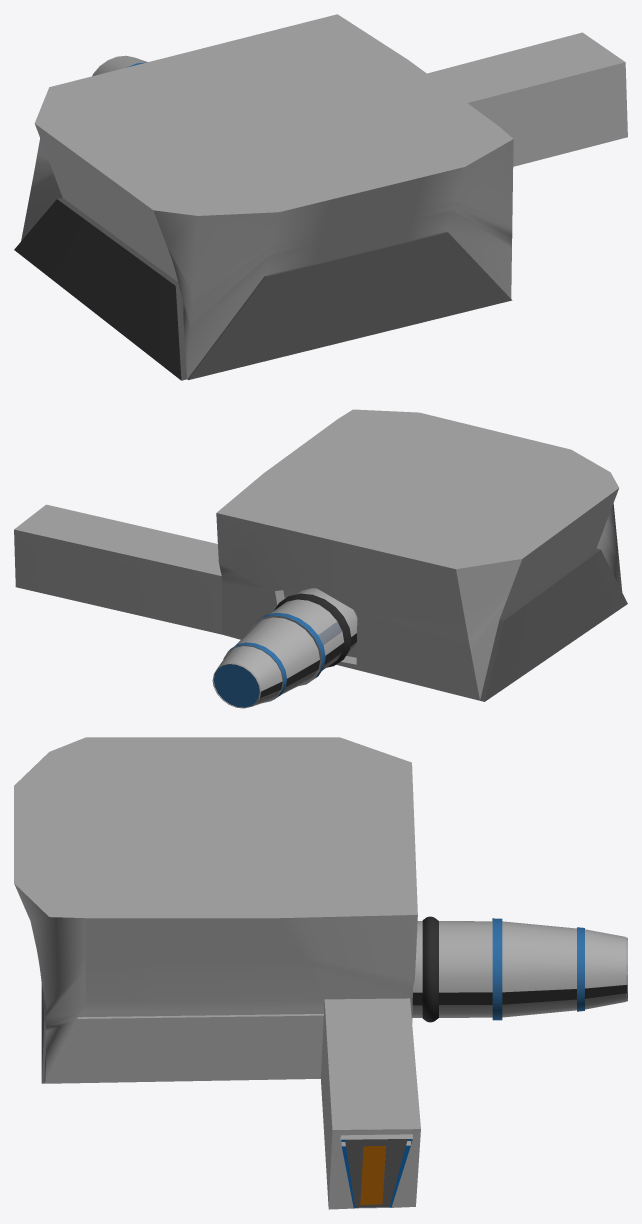
File: FixedBarracks2.fbx
3 views of the same model, one above another, from view 1: azimuth 30°, elevation 25°; view 2: azimuth 150°, elevation 25°; view 3: azimuth 270°, elevation 25° (orthographic). The views are drawn at different scales.
Visible parts, largest first — view 1: room, pasted__pCylinder1; view 2: room, pasted__pCylinder1; view 3: room, pasted__pCylinder1.
Part boxes in pixels (left/top/right/bottom): room: left=14, top=14, right=627, bottom=380; pasted__pCylinder1: left=92, top=55, right=147, bottom=76; room: left=14, top=409, right=627, bottom=701; pasted__pCylinder1: left=212, top=588, right=357, bottom=708; room: left=14, top=737, right=420, bottom=1209; pasted__pCylinder1: left=412, top=916, right=627, bottom=1022.
Bounding box in the file's own units: 39.3 × 10.12 × 33.15.
